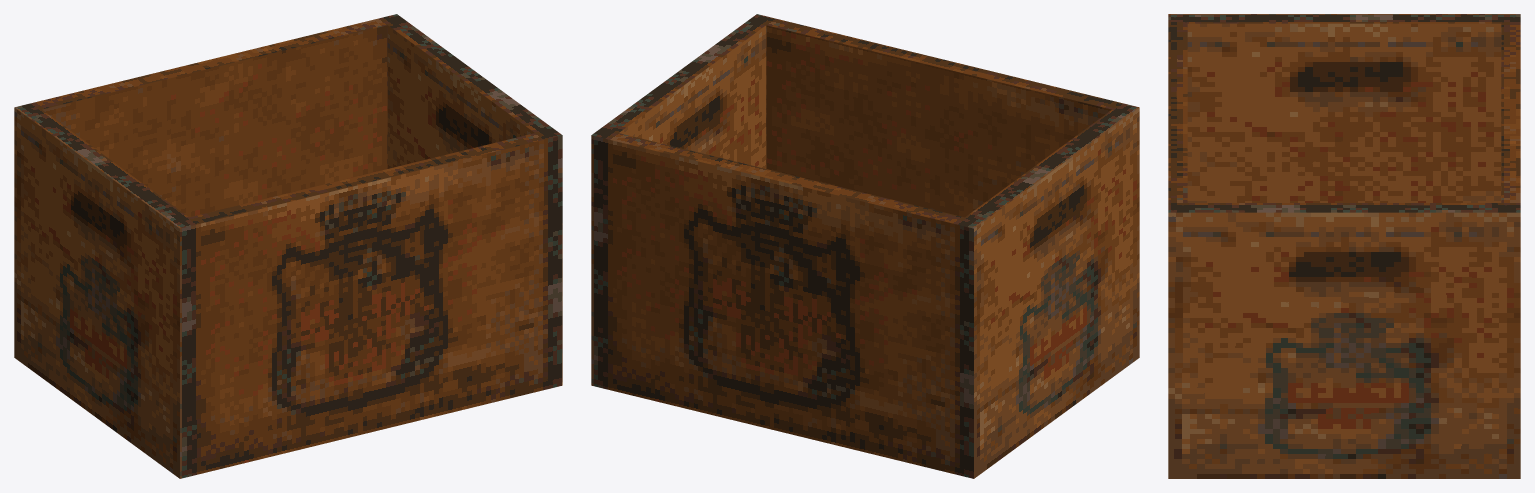
File: tb_milk_crate.glb
The picture shows the model from 3 angles, left to right: view 1: azimuth 30°, elevation 25°; view 2: azimuth 150°, elevation 25°; view 3: azimuth 270°, elevation 25°; orthographic projection. The views are drawn at different scales.
Visible parts, largest first — view 1: crate_milk_00; view 2: crate_milk_00; view 3: crate_milk_00.
Boxes of the visible parts, <box> form: crate_milk_00: <box>14,14,562,478</box>; crate_milk_00: <box>591,14,1139,478</box>; crate_milk_00: <box>1168,14,1520,478</box>.
Bounding box in the file's own units: 0.48 × 0.3 × 0.36.
1 material, 1 textured.
